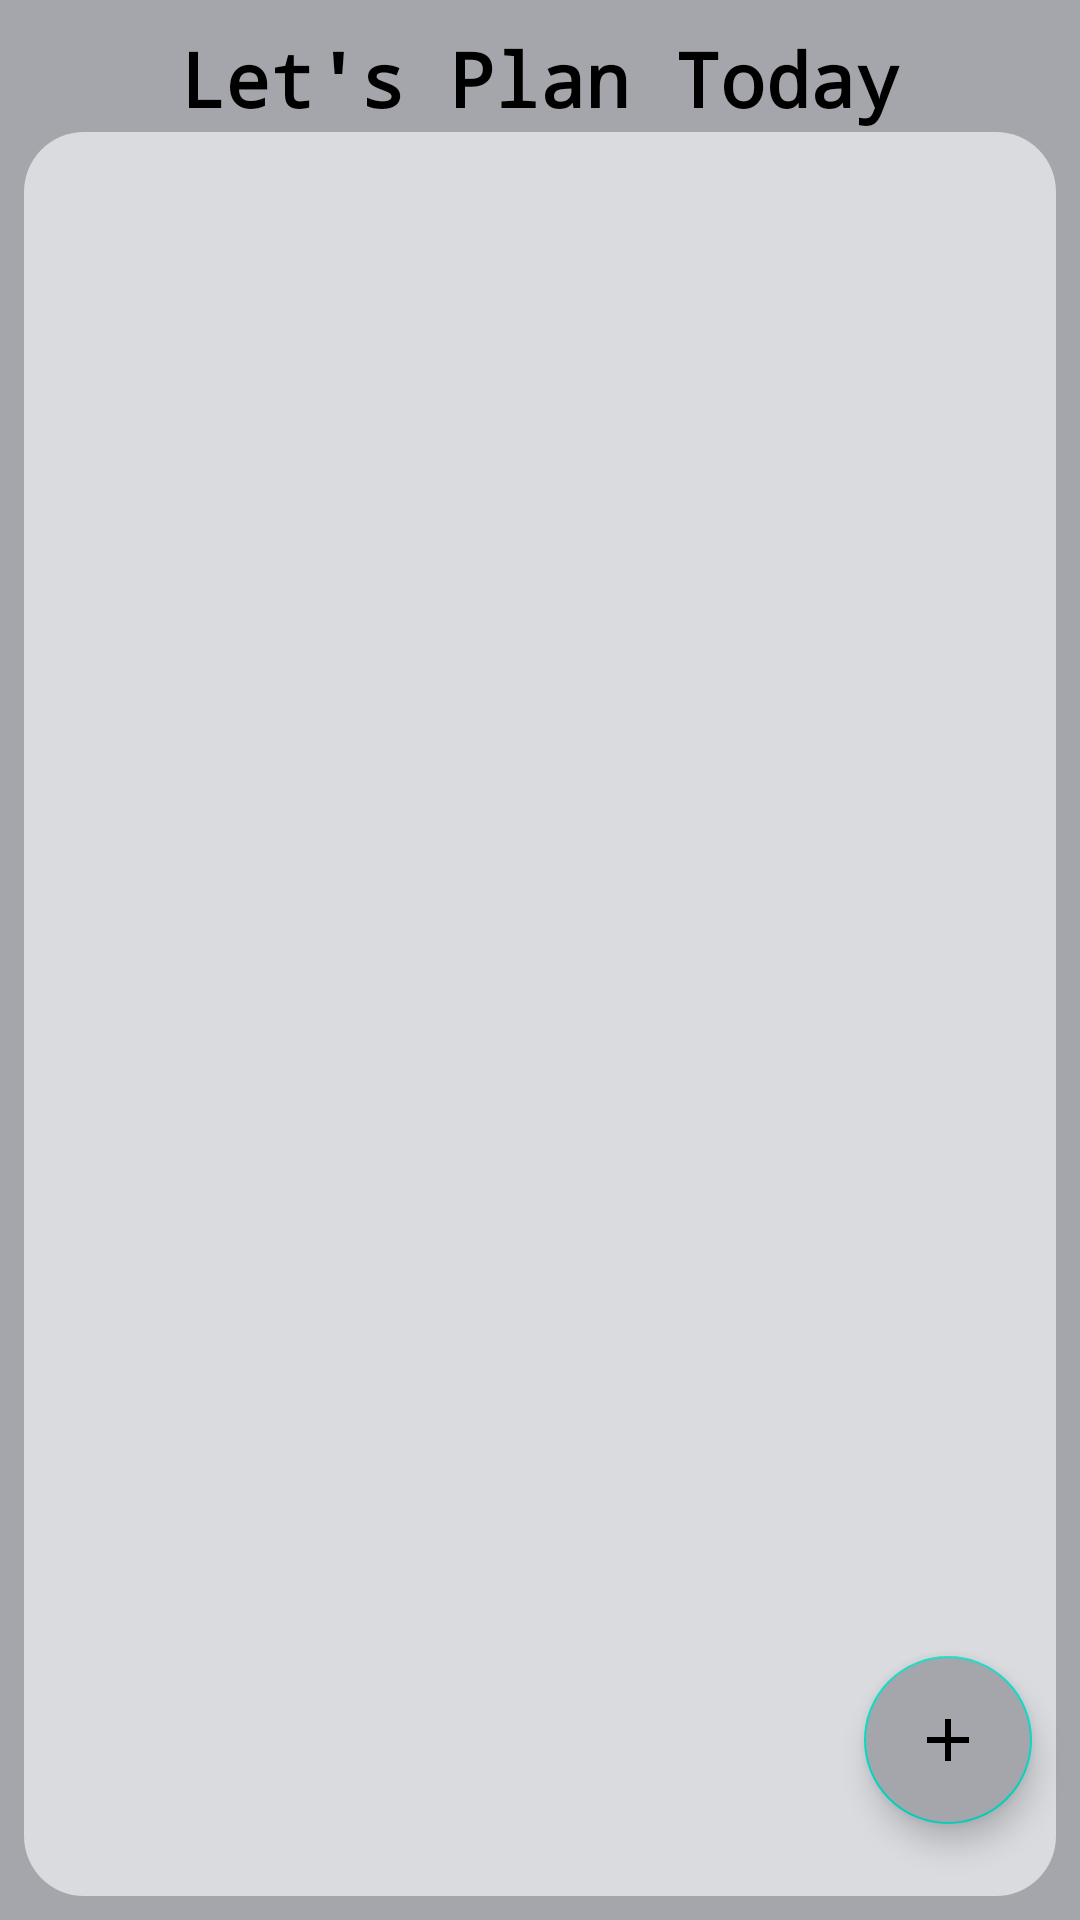

Where to tap for icons on this 1080x1920 app screen, as (x=x, y=y):
add: (x=948, y=1740)
